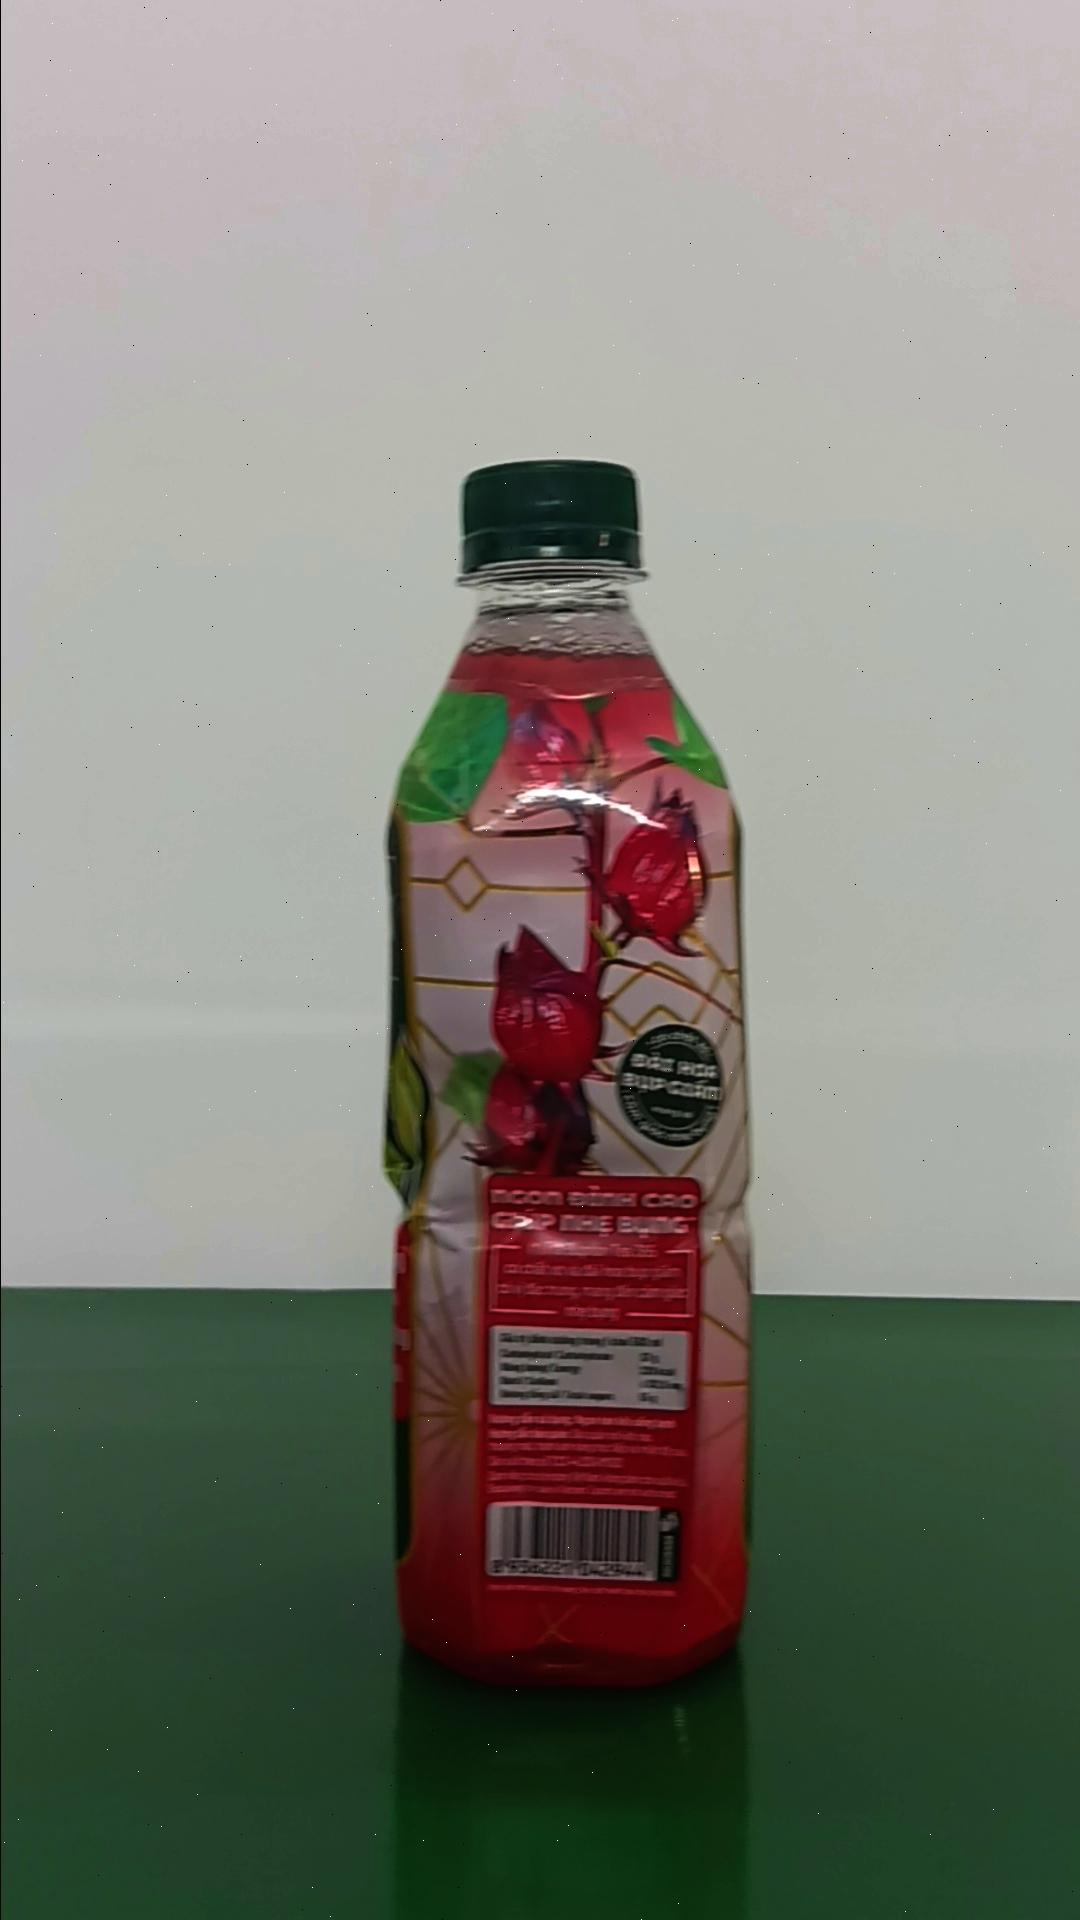loi meo sp: (380, 456, 756, 1691)
